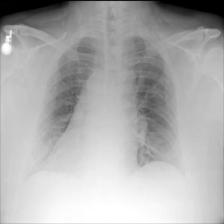normal: (34, 32, 184, 173)
